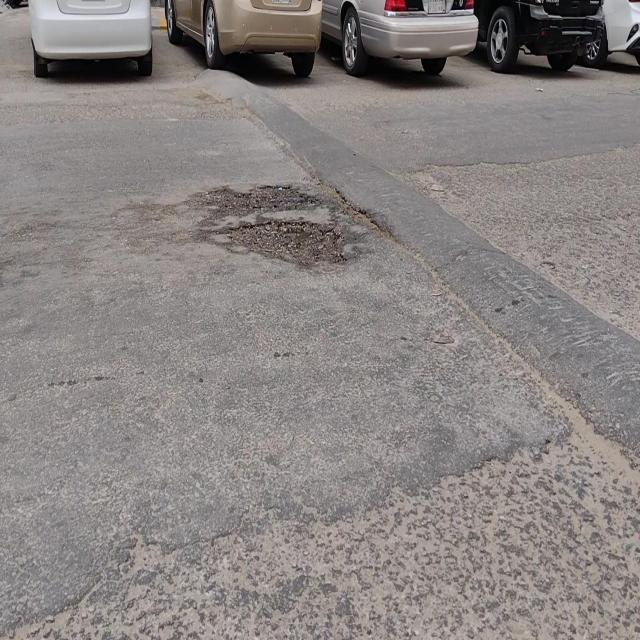Potholes: (214, 181, 341, 263)
